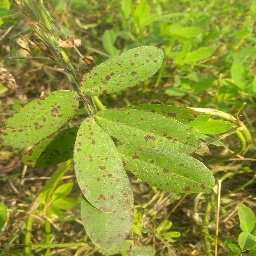GroundNut_Leaf: (79, 42, 164, 99), (76, 117, 125, 212), (127, 146, 217, 197), (1, 90, 73, 149), (231, 202, 255, 233), (197, 118, 234, 137), (229, 58, 246, 91), (49, 181, 72, 201)
